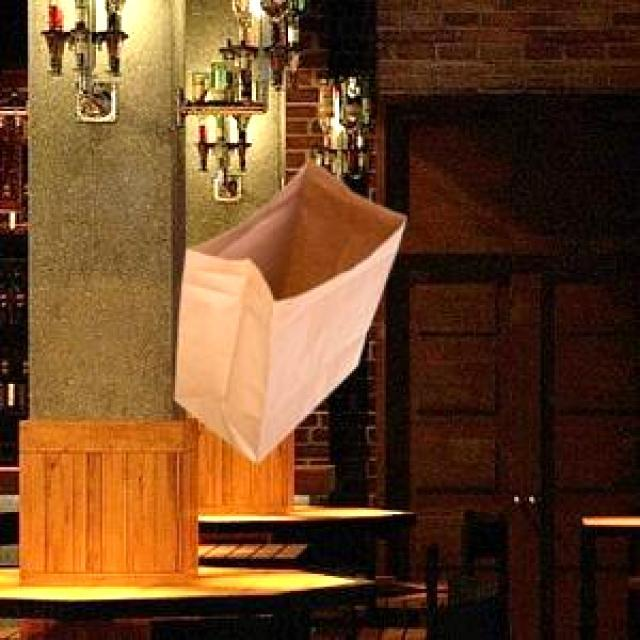Paper_Bag: (172, 157, 402, 460)
